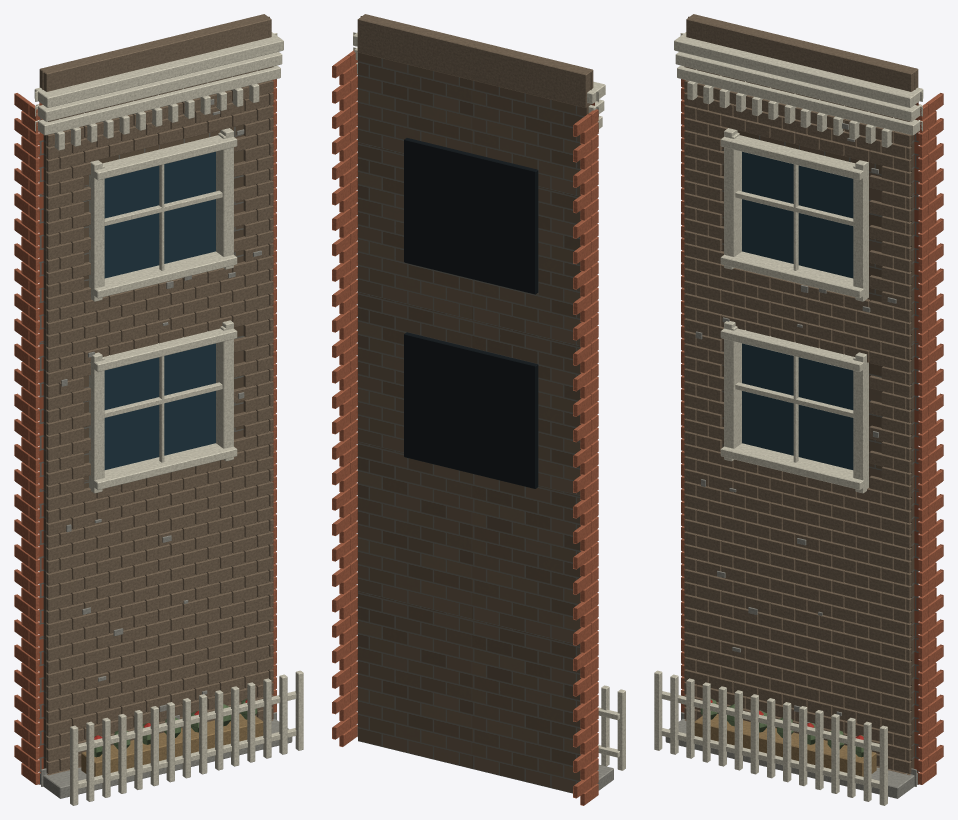
File: VICT18_lod0.glb
3 renders of one model, left to right at view 1: azimuth 30°, elevation 25°; view 2: azimuth 150°, elevation 25°; view 3: azimuth 330°, elevation 25°, orthographic.
Visible parts, largest first — view 1: VICT18_FRONT_LOD0; view 2: VICT18_FRONT_LOD0; view 3: VICT18_FRONT_LOD0.
Part boxes in pixels (x1=…): VICT18_FRONT_LOD0: x1=14, y1=14, x2=303, y2=805; VICT18_FRONT_LOD0: x1=332, y1=14, x2=625, y2=805; VICT18_FRONT_LOD0: x1=654, y1=14, x2=943, y2=805.
Size of the model in its own units: 3.44 by 9.66 by 1.32.
Materials: 16 (14 with a texture image).
